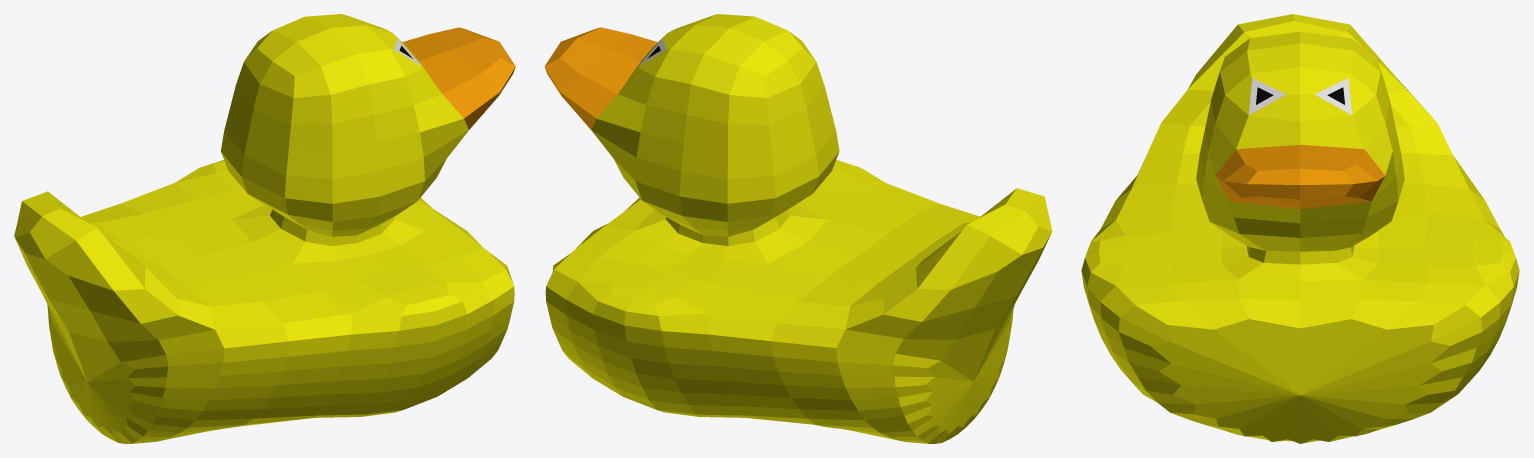
The model's file is rubber_duck1.fbx.
3 renders of one model, left to right at view 1: azimuth 30°, elevation 25°; view 2: azimuth 150°, elevation 25°; view 3: azimuth 270°, elevation 25°, orthographic. The views are drawn at different scales.
Parts seen in each view (by area): view 1: Cylinder; view 2: Cylinder; view 3: Cylinder.
Part boxes in pixels (<box>): Cylinder: <box>14,14,515,443</box>; Cylinder: <box>544,14,1052,443</box>; Cylinder: <box>1081,14,1519,443</box>.
Size of the model in its own units: 323 by 227 by 247.
